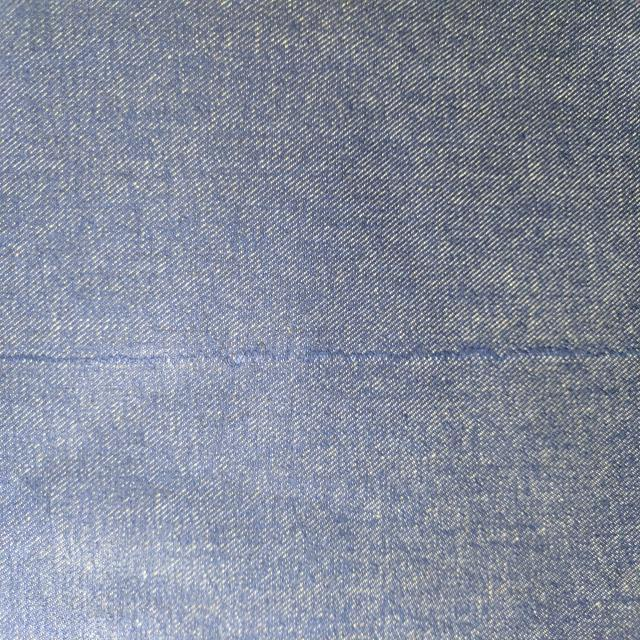Line: (2, 342, 639, 369)
